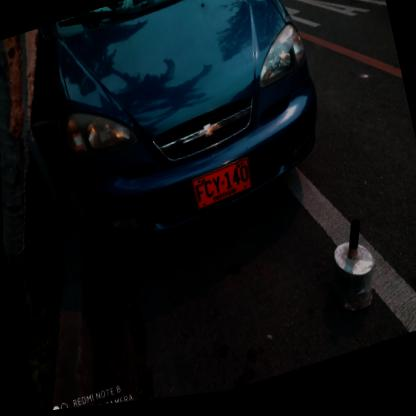placa: (185, 159, 261, 219)
